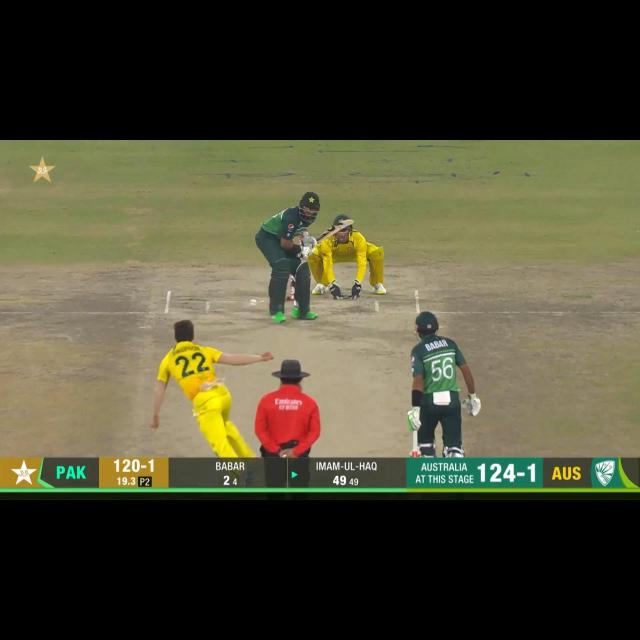bat: (302, 219, 355, 249)
toe: (338, 218, 356, 230)
